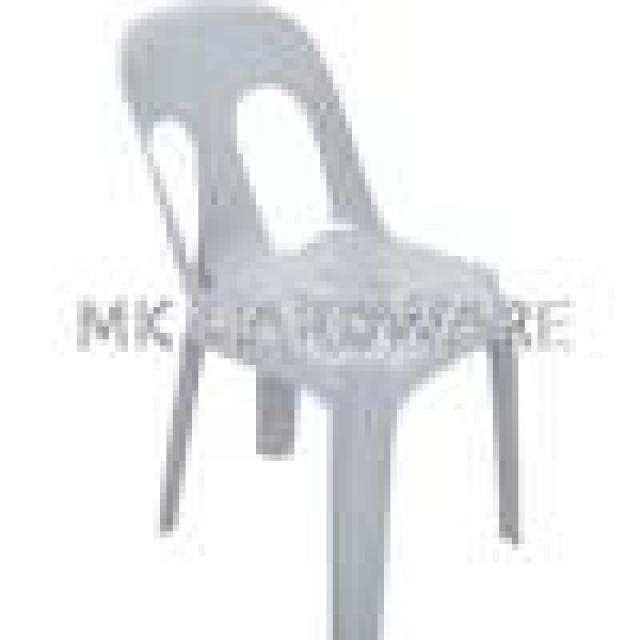chair: (34, 0, 570, 640)
